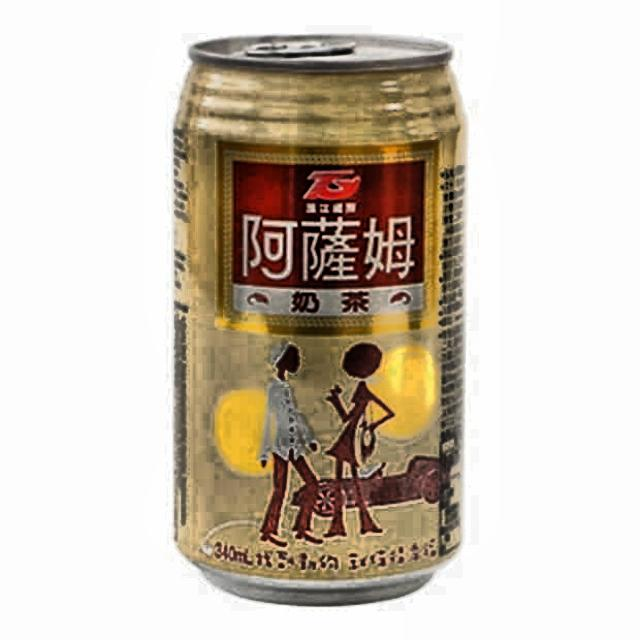can: (164, 26, 480, 613)
